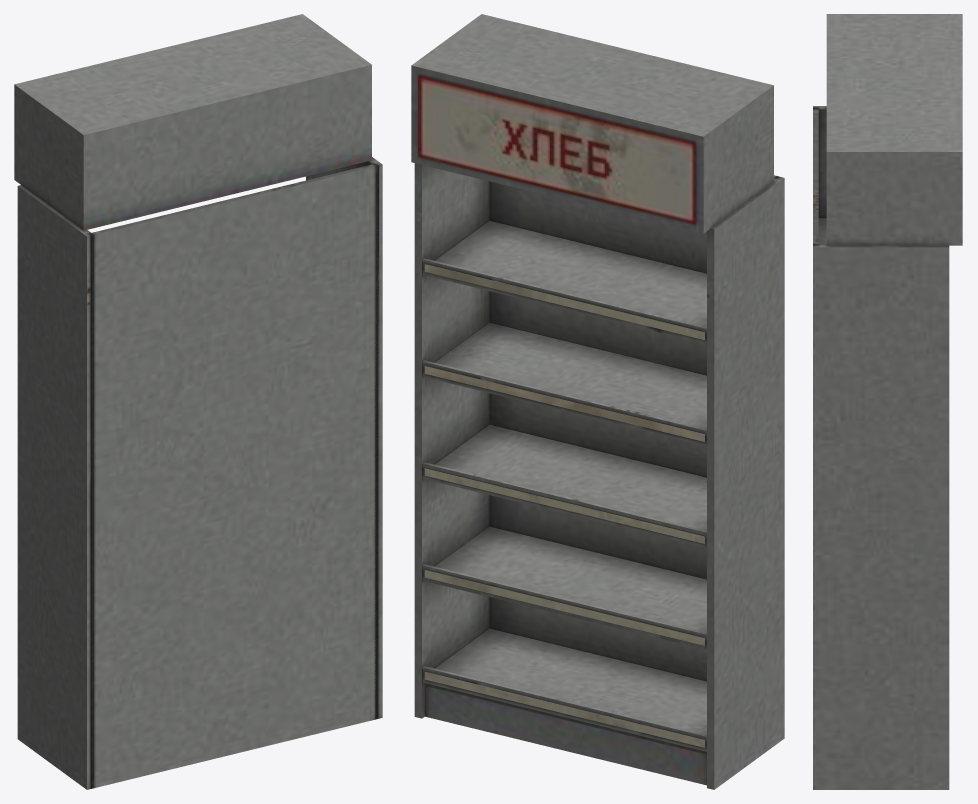
File: wall_rack_khleb_lod1_web.glb
The picture shows the model from 3 angles, left to right: view 1: azimuth 30°, elevation 25°; view 2: azimuth 150°, elevation 25°; view 3: azimuth 270°, elevation 25°; orthographic projection. The views are drawn at different scales.
Visible parts, largest first — view 1: WallRackKhleb_Body; view 2: WallRackKhleb_Body; view 3: WallRackKhleb_Body.
Part boxes in pixels (<box>): WallRackKhleb_Body: <box>14,14,382,789</box>; WallRackKhleb_Body: <box>411,14,784,789</box>; WallRackKhleb_Body: <box>813,14,962,789</box>.
Size of the model in its own units: 1.23 by 2.58 by 0.554.
1 material, 1 textured.
